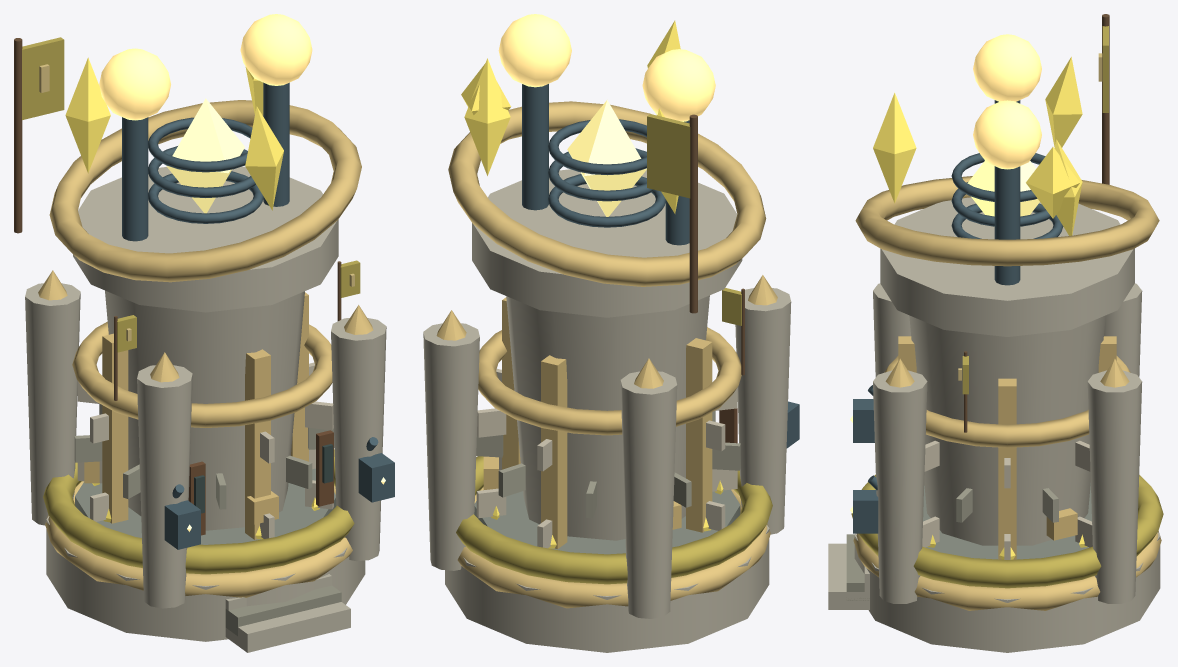
The model's file is tower-thunder-3-0.glb.
3 renders of one model, left to right at view 1: azimuth 30°, elevation 25°; view 2: azimuth 150°, elevation 25°; view 3: azimuth 270°, elevation 25°, orthographic. The views are drawn at different scales.
Visible parts, largest first — view 1: Foundation, Turret, thunder-L3-0; view 2: Foundation, Turret, thunder-L3-0; view 3: Foundation, Turret, thunder-L3-0.
Boxes of the visible parts, <box> form: Foundation: <box>14,37,394,652</box>; Turret: <box>49,14,361,312</box>; thunder-L3-0: <box>46,468,365,641</box>; Foundation: <box>423,114,799,618</box>; Turret: <box>448,14,766,317</box>; thunder-L3-0: <box>445,489,769,652</box>; Foundation: <box>828,14,1163,610</box>; Turret: <box>855,34,1159,336</box>; thunder-L3-0: <box>854,483,1160,652</box>.
Bounding box in the file's own units: 1.72 × 3.14 × 1.84.
